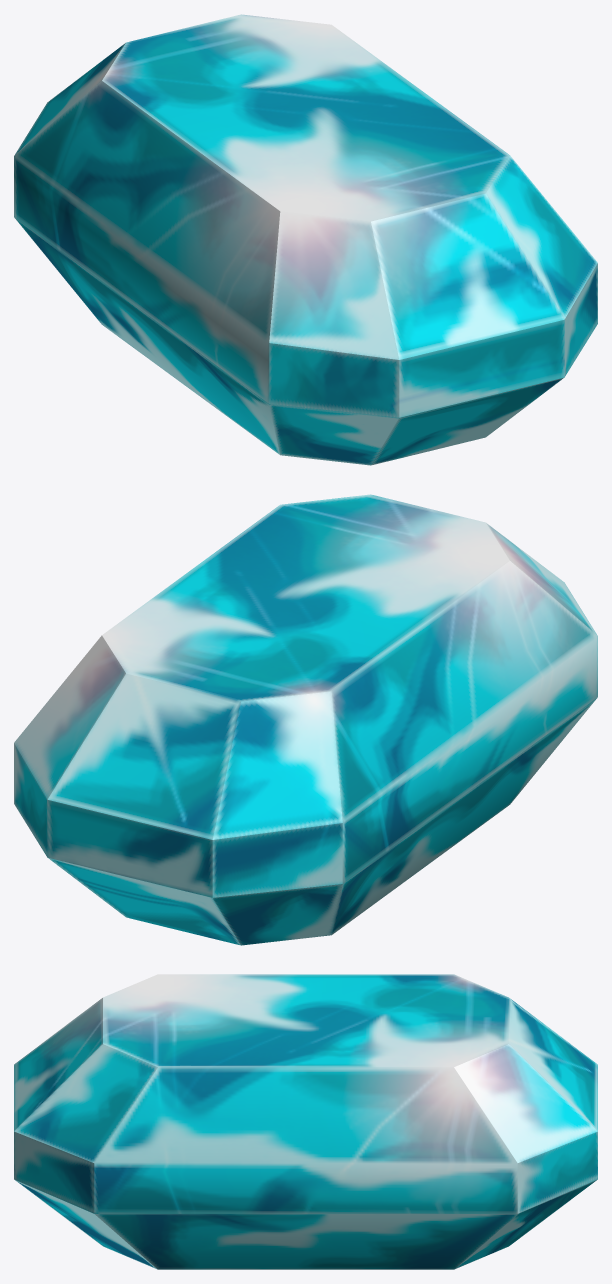
Rendered from stone_blue_003.fbx.
3 views of the same model, one above another, from view 1: azimuth 30°, elevation 25°; view 2: azimuth 150°, elevation 25°; view 3: azimuth 270°, elevation 25° (orthographic). The views are drawn at different scales.
Visible parts, largest first — view 1: stone; view 2: stone; view 3: stone.
Part boxes in pixels (box(x1,y1,x2,y2)): stone: box(14, 14, 597, 465); stone: box(14, 494, 597, 945); stone: box(14, 974, 597, 1269).
Bounding box in the file's own units: 4.53 × 3.21 × 8.4.
